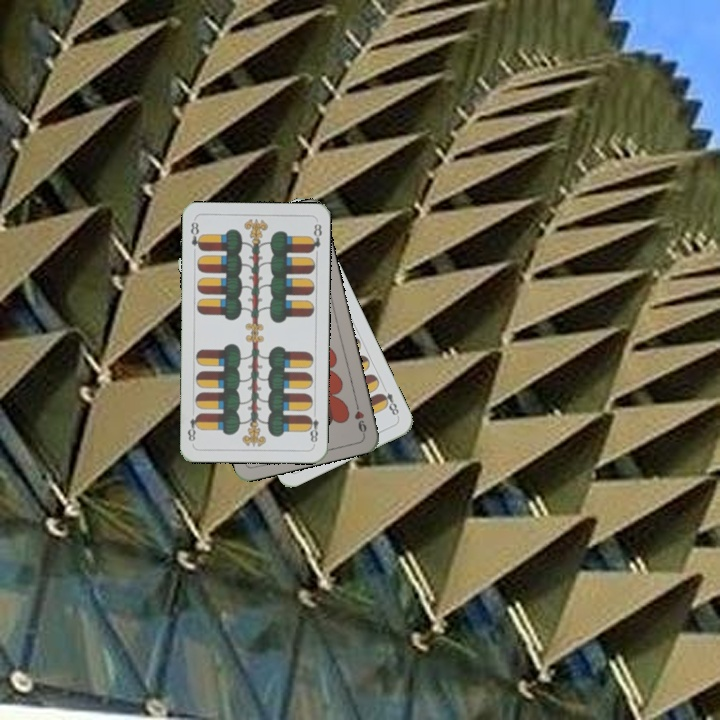E8: (376, 382, 402, 420), (304, 407, 321, 447), (186, 218, 205, 253)
H9: (350, 397, 369, 437)
